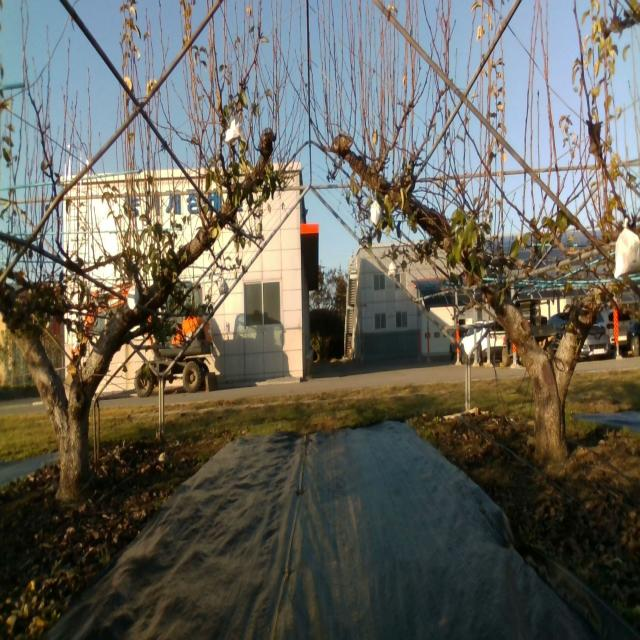pearbags: (613, 218, 640, 277), (225, 115, 247, 145), (128, 279, 140, 311), (371, 200, 382, 226), (218, 274, 229, 296)
